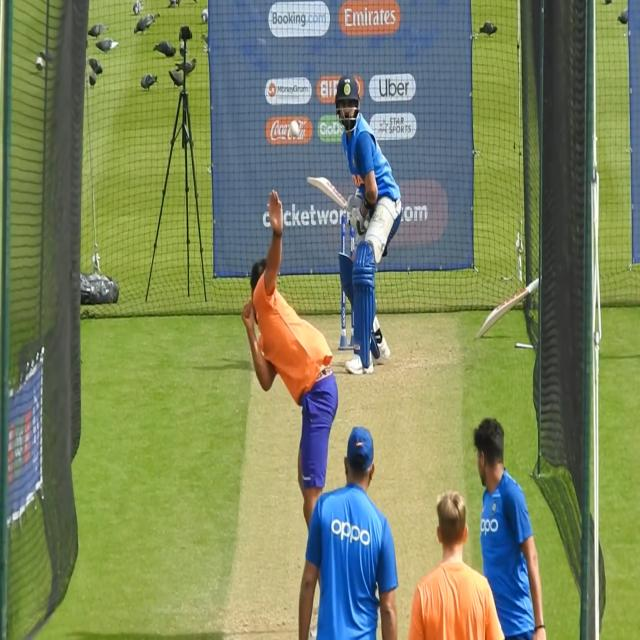Cricket ball: (288, 118, 301, 138)
